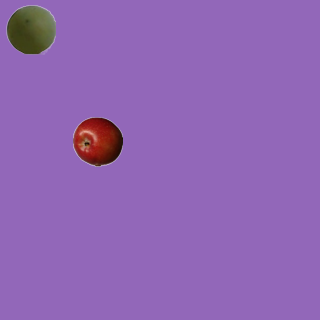Apple Braeburn: (72, 116, 122, 166)
Grape White 4: (5, 4, 55, 54)
